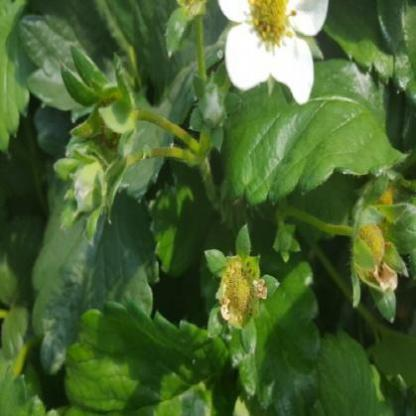Strawberry_Blossom_Blight: (219, 260, 272, 330)
